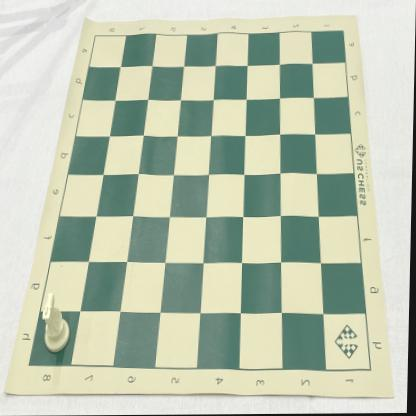white-knight: (43, 292, 72, 354)
